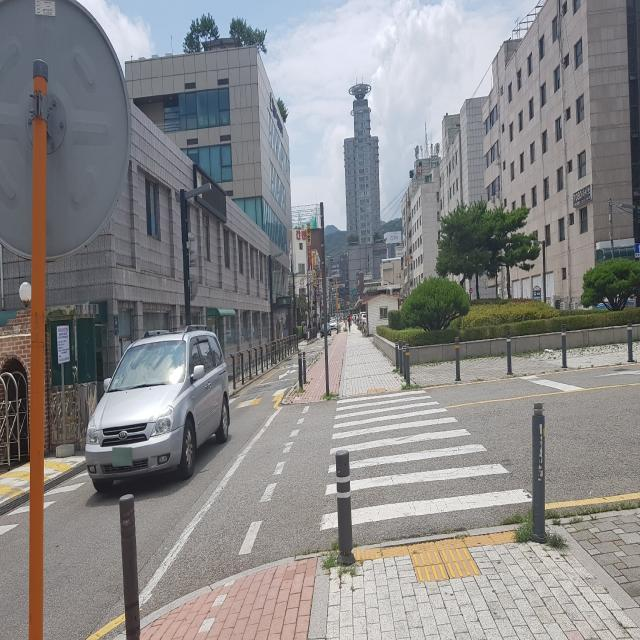횡단보도: (318, 389, 534, 532)
